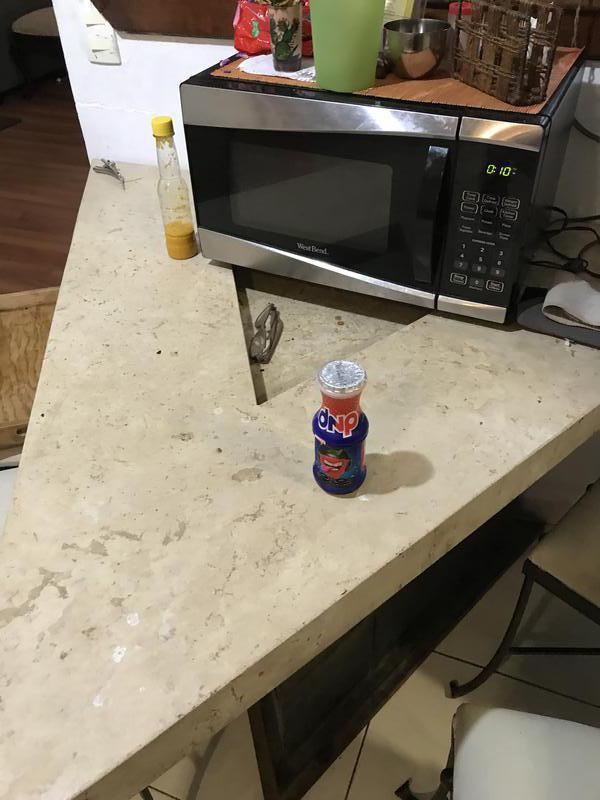danup: (310, 360, 370, 495)
